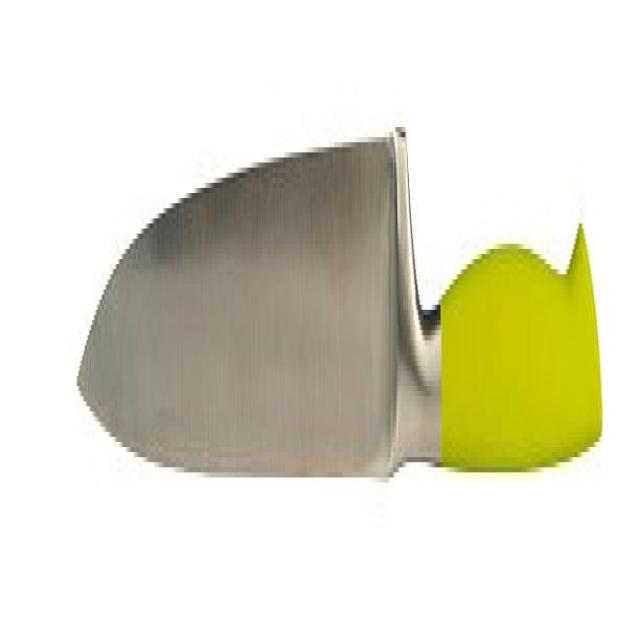knife: (74, 103, 610, 514)
